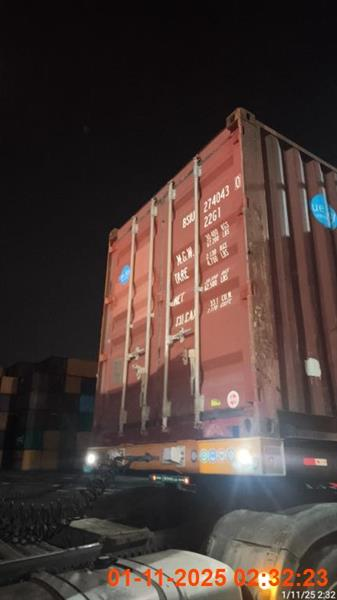broken: (82, 107, 335, 513)
